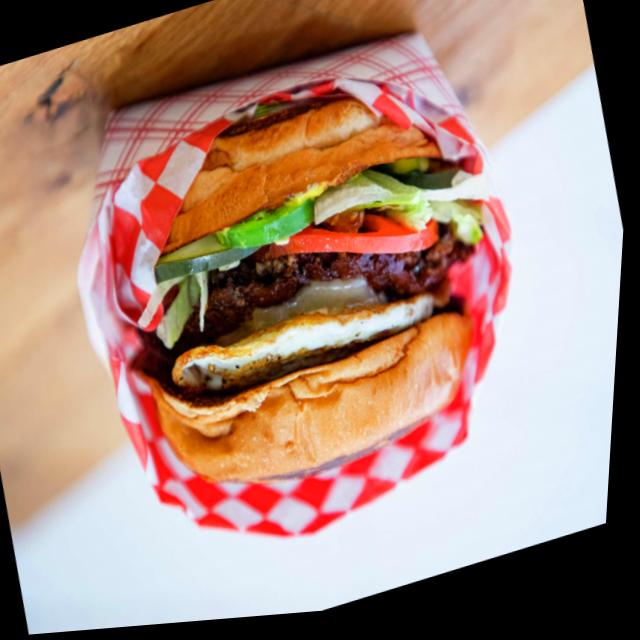burger: (95, 68, 507, 516)
